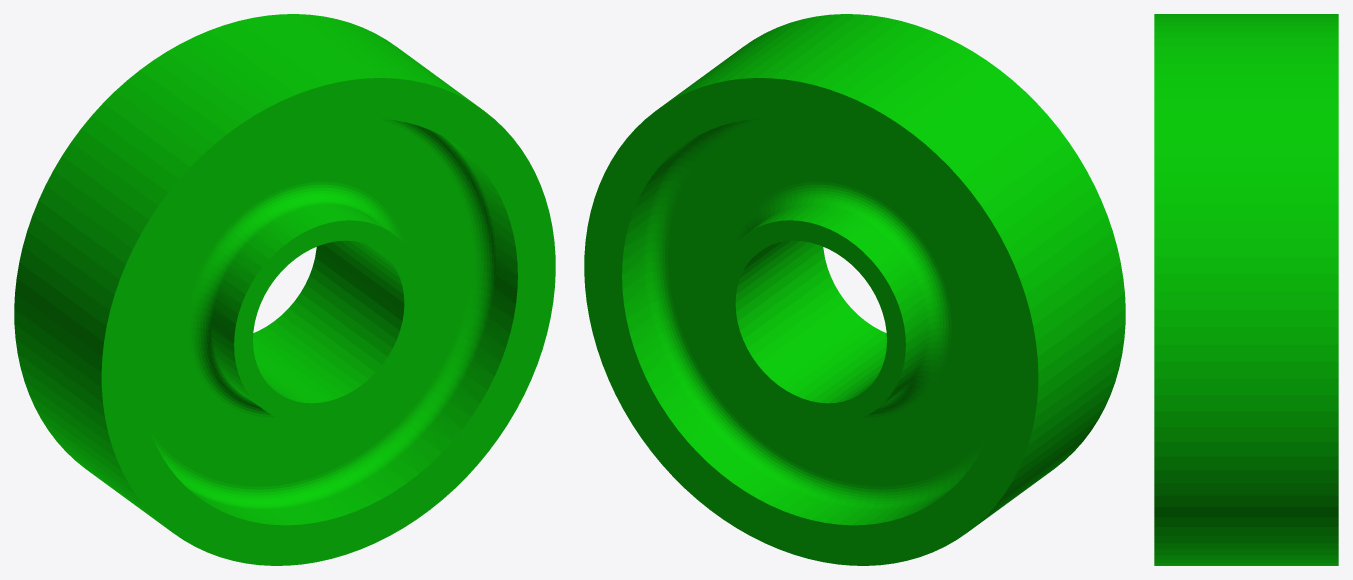
File: spindle_bearing.glb
The picture shows the model from 3 angles, left to right: view 1: azimuth 30°, elevation 25°; view 2: azimuth 150°, elevation 25°; view 3: azimuth 270°, elevation 25°; orthographic projection. The views are drawn at different scales.
Visible parts, largest first — view 1: Node1; view 2: Node1; view 3: Node1.
Boxes of the visible parts, <box> form: Node1: <box>14,14,555,565</box>; Node1: <box>584,14,1125,565</box>; Node1: <box>1154,14,1338,565</box>.
Bounding box in the file's own units: 300 × 300 × 100.
